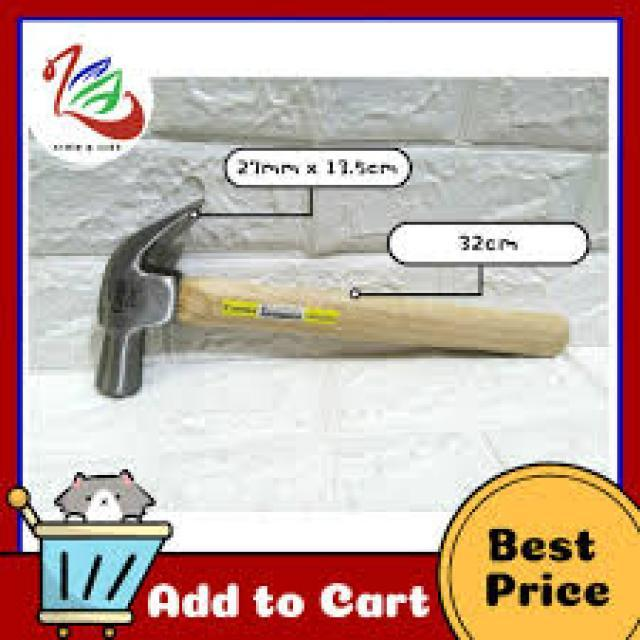hammer: (82, 194, 578, 400)
